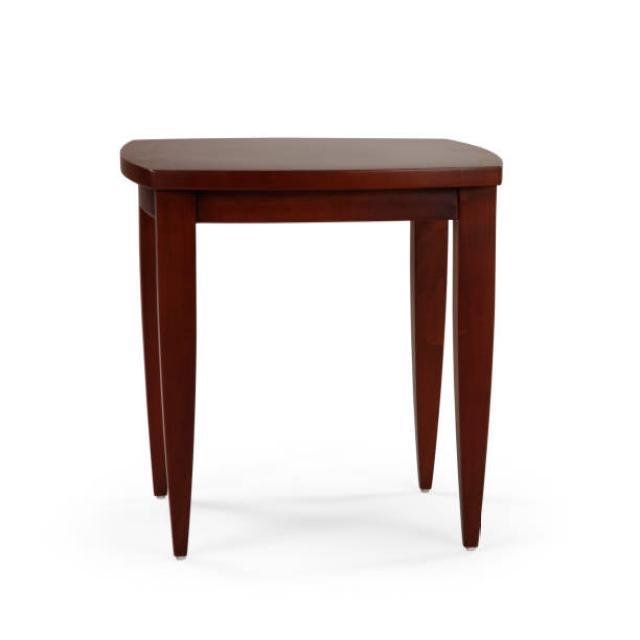table: (119, 136, 503, 560)
